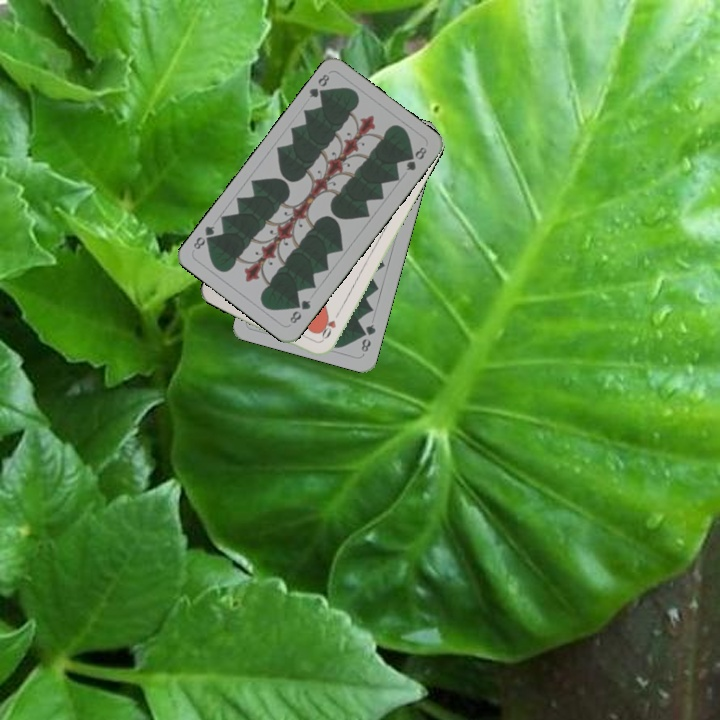G8: (305, 70, 332, 102), (286, 296, 313, 326), (357, 320, 378, 355)
HO: (316, 308, 342, 345)
